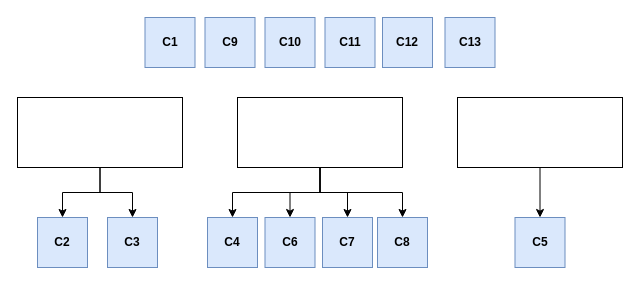
This 640x285 diagram has some shape labels left out. Here are the shapes that lost their labels. From the top down, the centre of each, then its label:
At (x=99, y=132): "Plutchik's Psychoevolutionary Synthesis (PES)".
At (x=319, y=132): "Oatley and Johnson-Laird's Communicative Theories of Emotions (CTE)".
At (x=539, y=132): "Mehrabian's Pleasure-Arousal-Dominance (PAD) Space".
